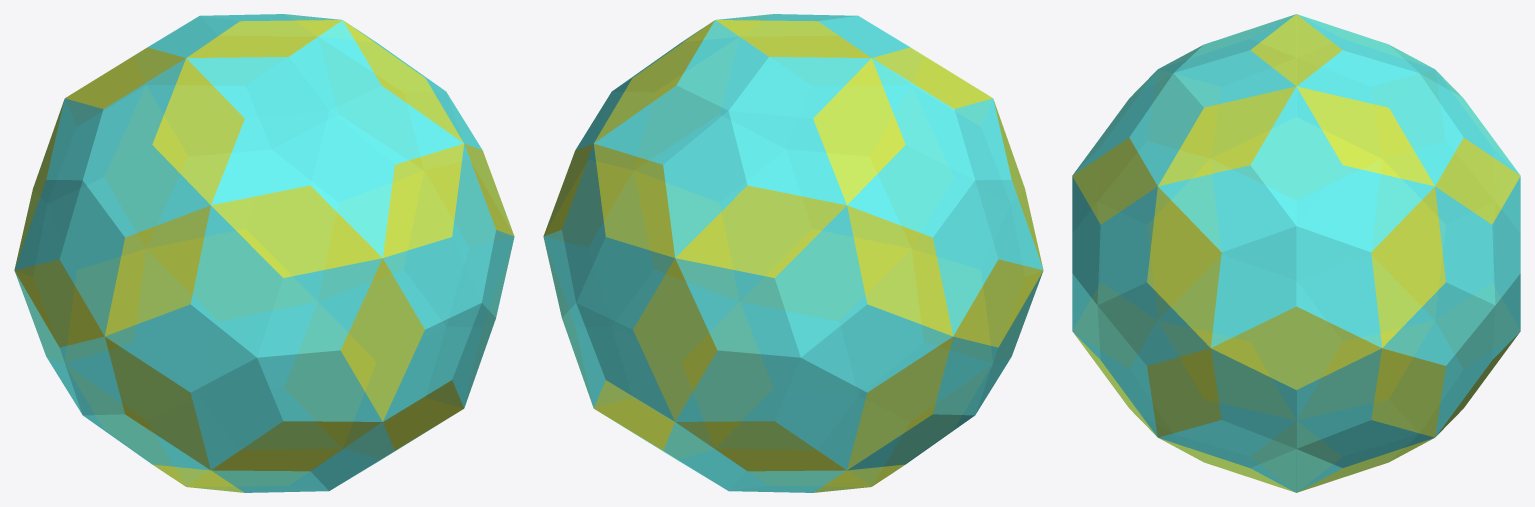
Rendered from JoinedTruncatedIcosahedron.obj.
3 renders of one model, left to right at view 1: azimuth 30°, elevation 25°; view 2: azimuth 150°, elevation 25°; view 3: azimuth 270°, elevation 25°, orthographic. The views are drawn at different scales.
Size of the model in its own units: 4.85 by 4.85 by 4.85.
